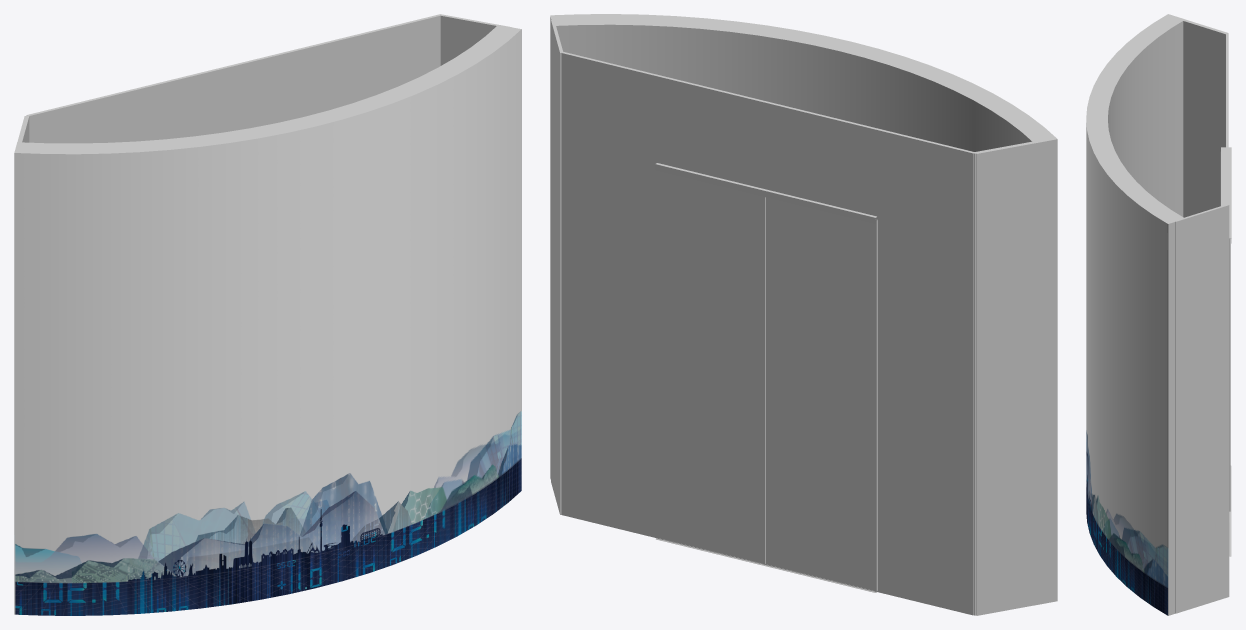
Rendered from welcomeWall.gltf.
3 renders of one model, left to right at view 1: azimuth 30°, elevation 25°; view 2: azimuth 150°, elevation 25°; view 3: azimuth 270°, elevation 25°, orthographic. The views are drawn at different scales.
Visible parts, largest first — view 1: welcomeWall.001; view 2: welcomeWall.001; view 3: welcomeWall.001.
Part boxes in pixels (x1=…): welcomeWall.001: x1=14, y1=14, x2=521, y2=615; welcomeWall.001: x1=550, y1=14, x2=1057, y2=615; welcomeWall.001: x1=1086, y1=14, x2=1231, y2=615.
Size of the model in its own units: 3.45 by 3 by 1.01.
2 materials, 1 textured.
